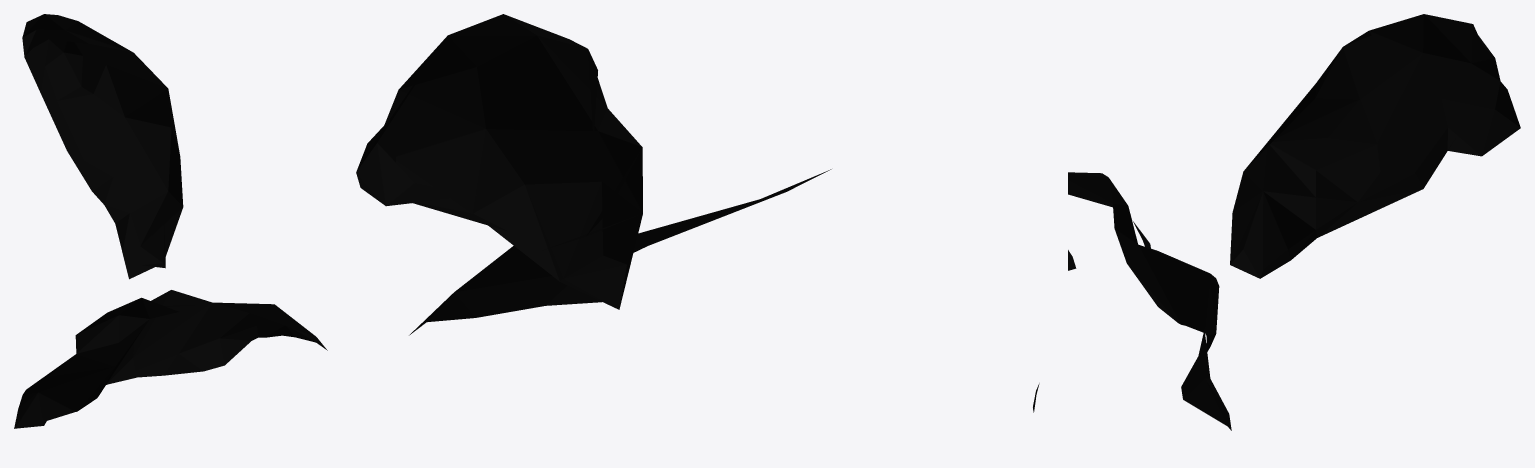
3 views of the same model, side by side, from view 1: azimuth 30°, elevation 25°; view 2: azimuth 150°, elevation 25°; view 3: azimuth 270°, elevation 25° (orthographic). The views are drawn at different scales.
Size of the model in its own units: 0.7165 by 0.6186 by 0.7393.
2 materials, 2 textured.
